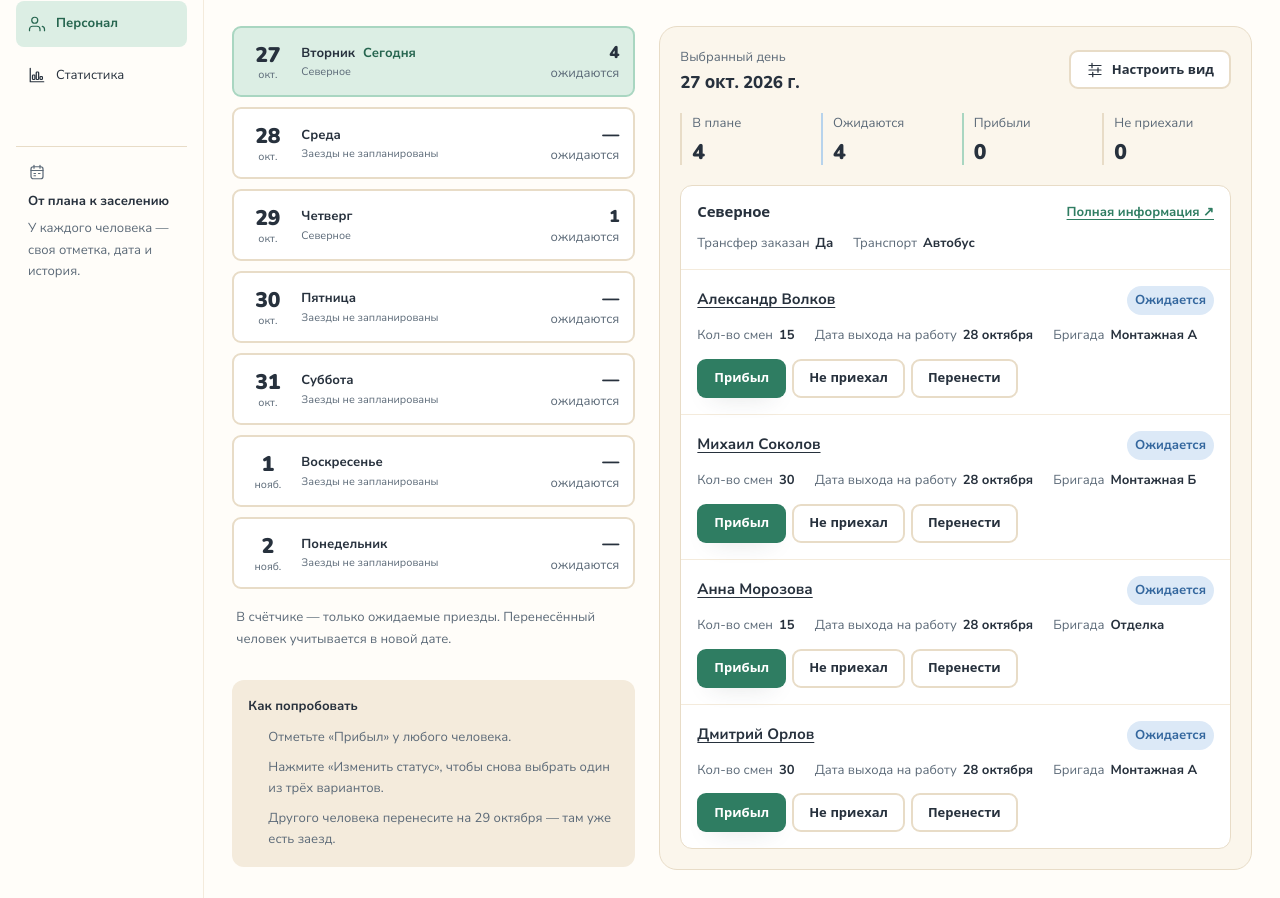
Test: переносит человека с сохранением текущего дня и показывает его при ручном выборе новой даты
(page scrolled)
Click the button "Перенести" below "Отделка" at (964, 668), box [911,648,1018,688]
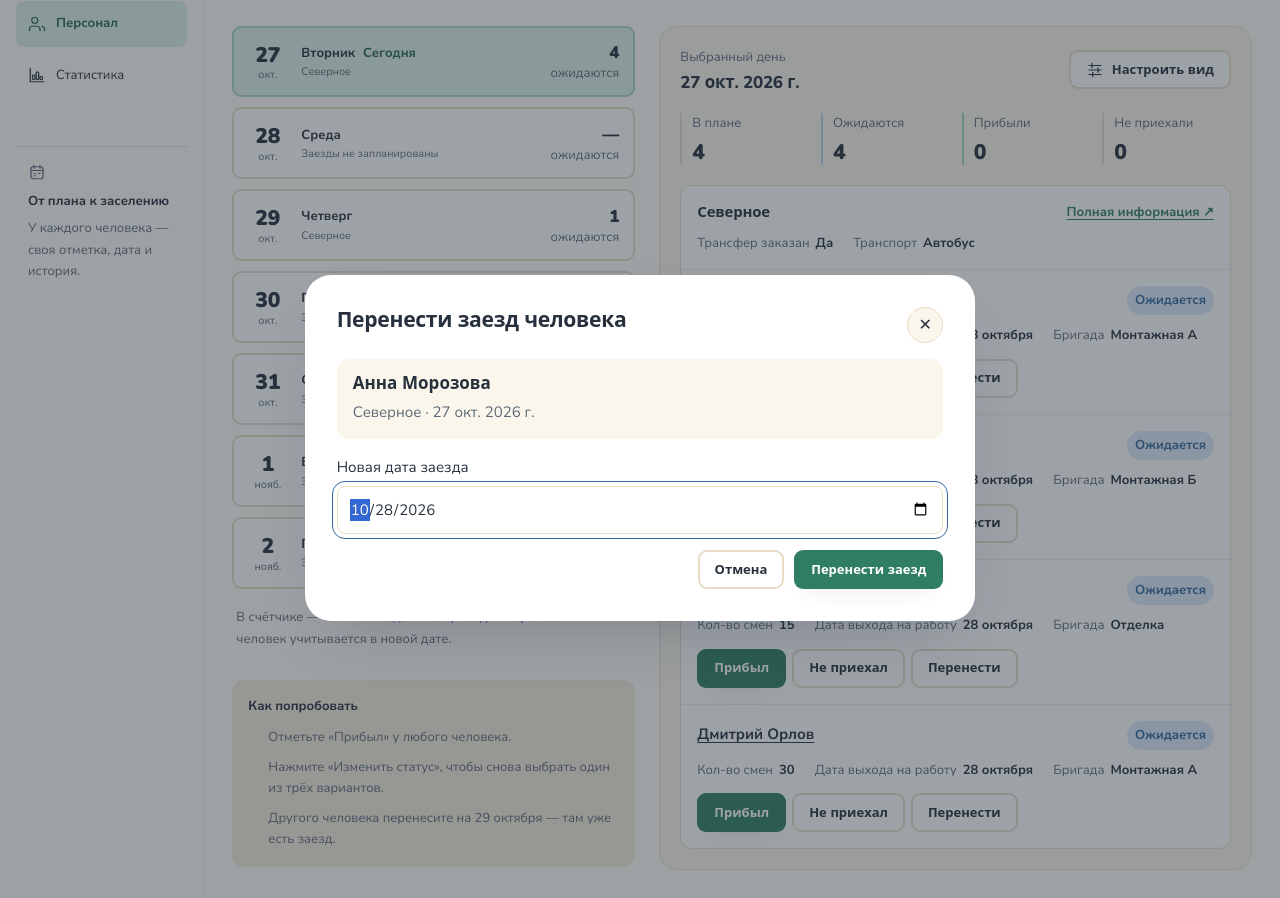
Type "2026-10-29" into the date field labelled "Новая дата заезда" at (640, 510), box [337,486,943,534]
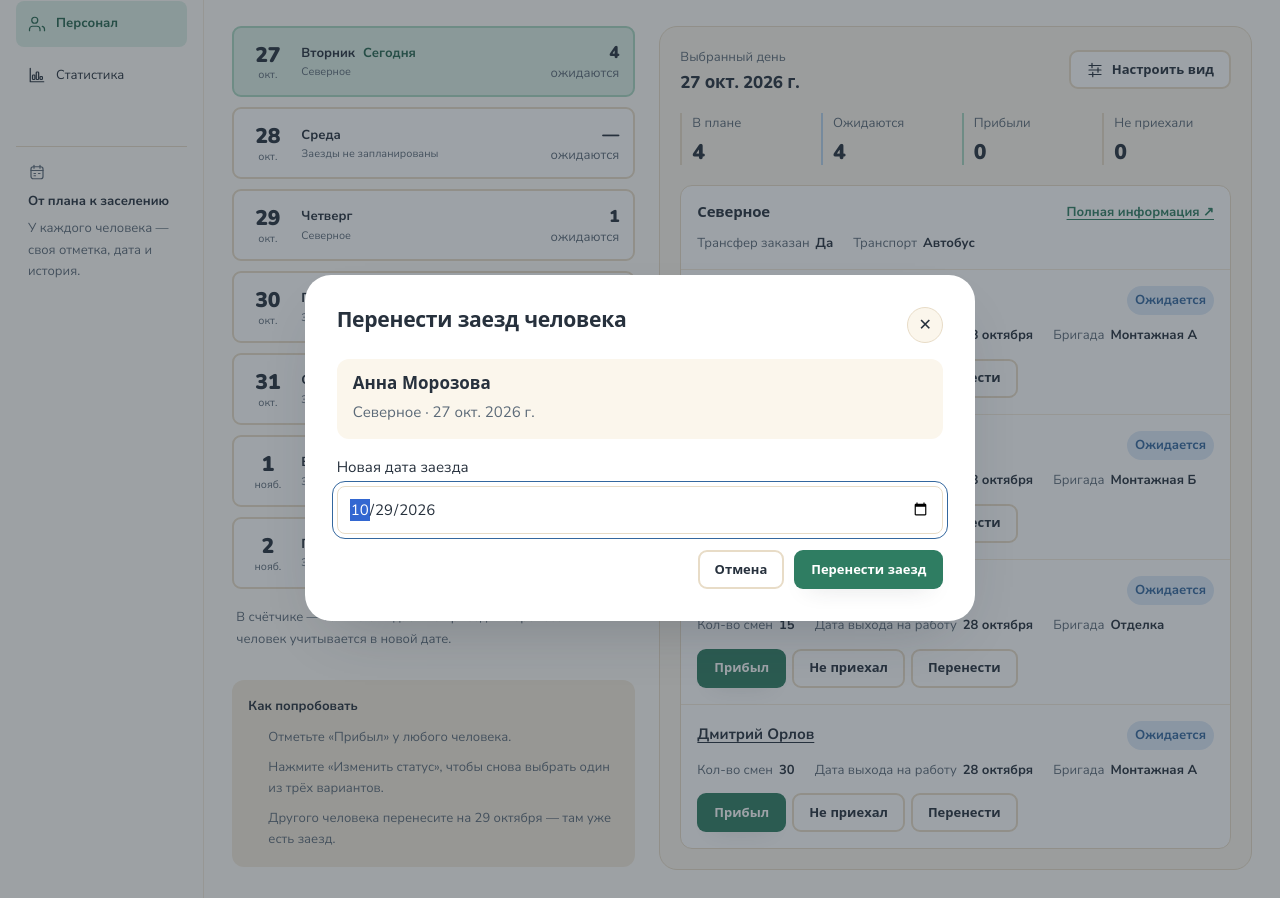
Click the button "Перенести заезд" at (869, 570), box [794,550,943,589]
(page scrolled)
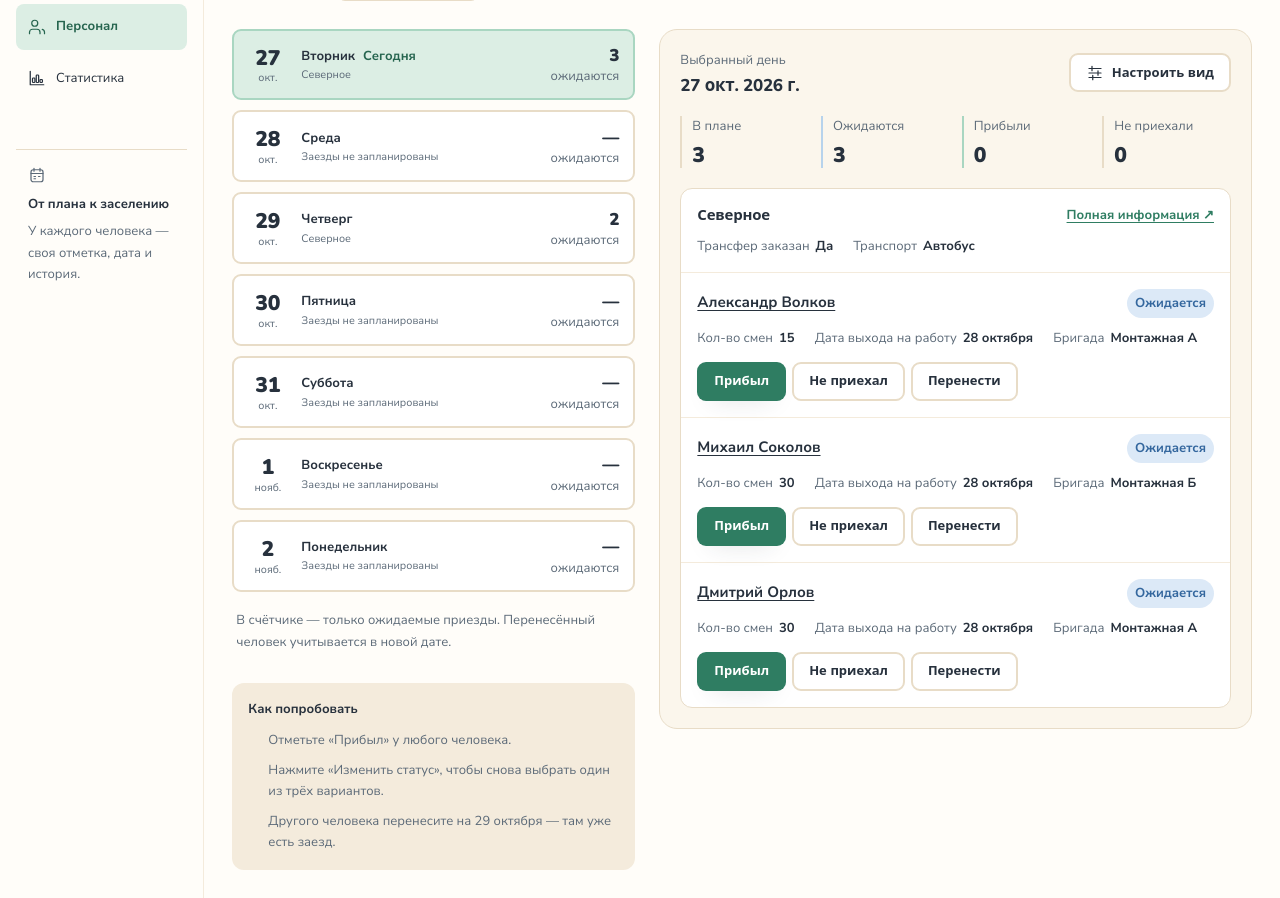
Expected: the list item with test id "workflow-person-alex" is shown, [681,272,1230,417]
Expected: the list item with test id "workflow-person-anna" is gone
Click the button "29 окт" at (327, 219), box [232,192,635,264]
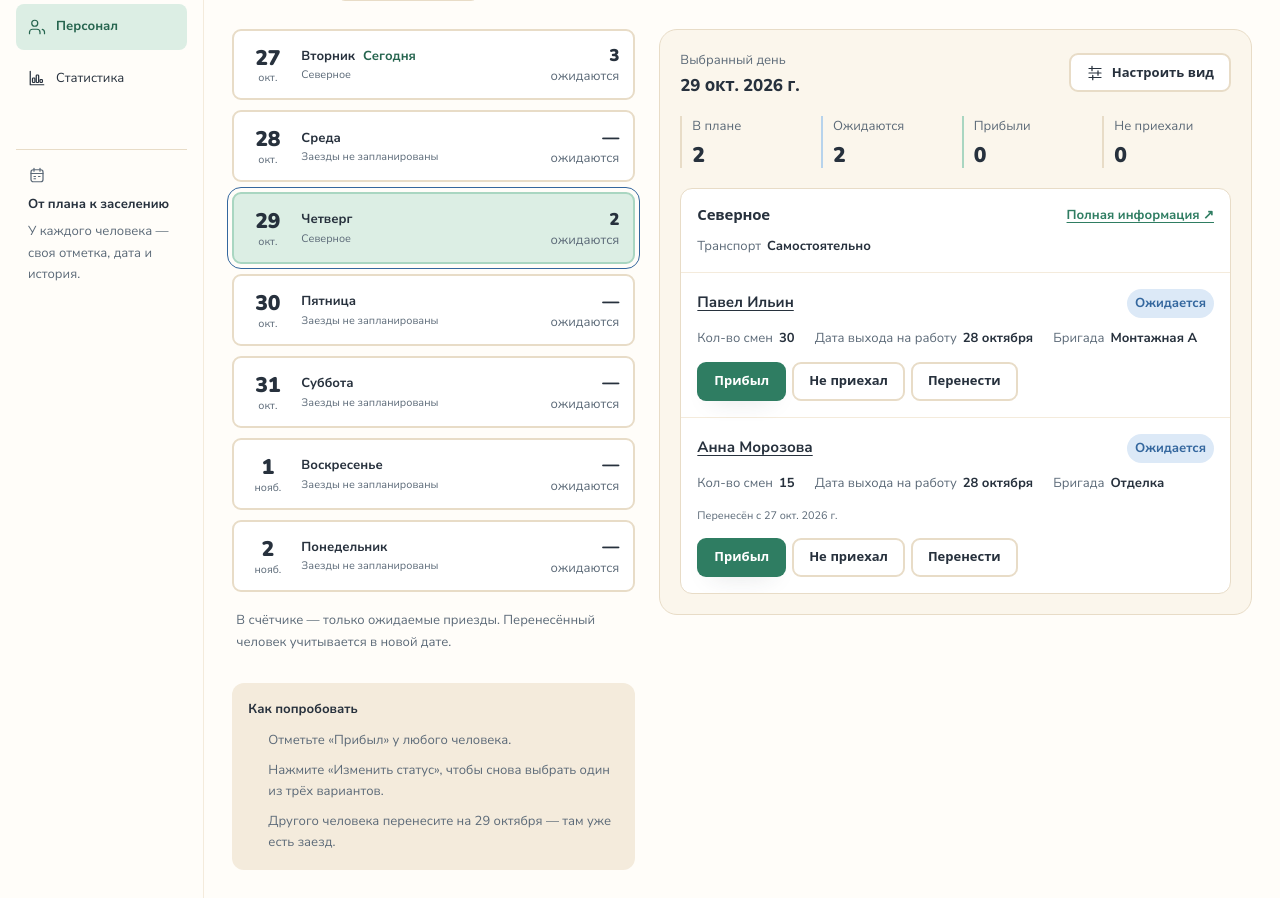
Expected: the button with aria-label "Полная информация: Анна Морозова" is shown, [697,435,813,460]
Expected: the button with aria-label "Полная информация: Павел Ильин" is shown, [697,290,794,315]
Expected: the text "Ожидается" is shown 2 times, [1127,289,1214,318]; [1127,434,1214,463]
